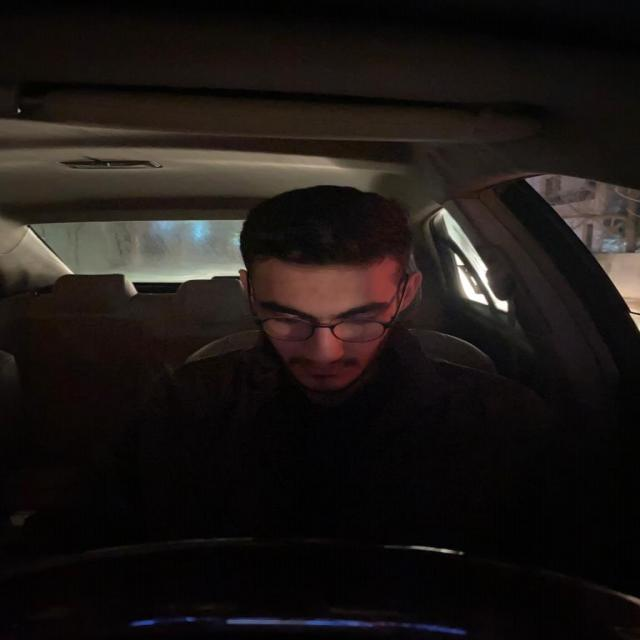drowsy: (238, 185, 423, 400)
